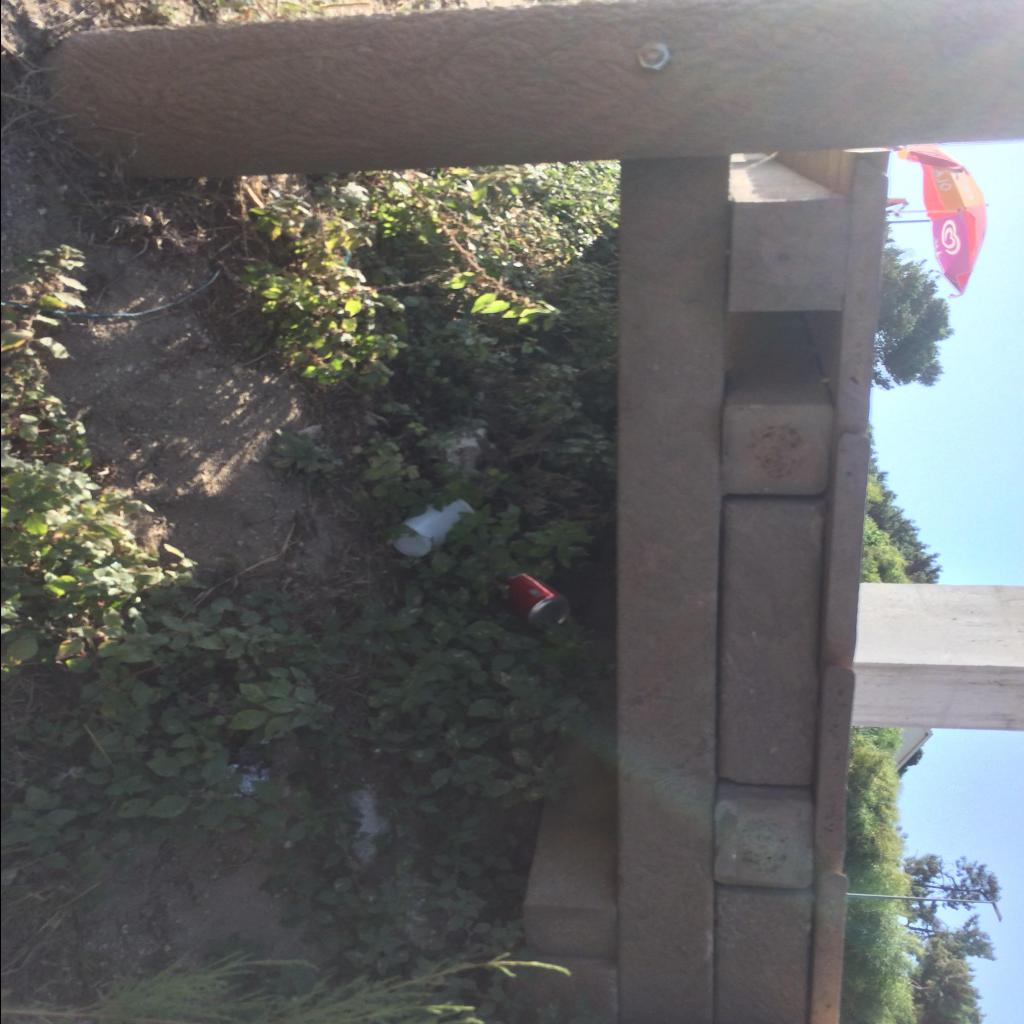Disposable plastic cup: (392, 500, 476, 560)
Drink can: (497, 572, 571, 632)
